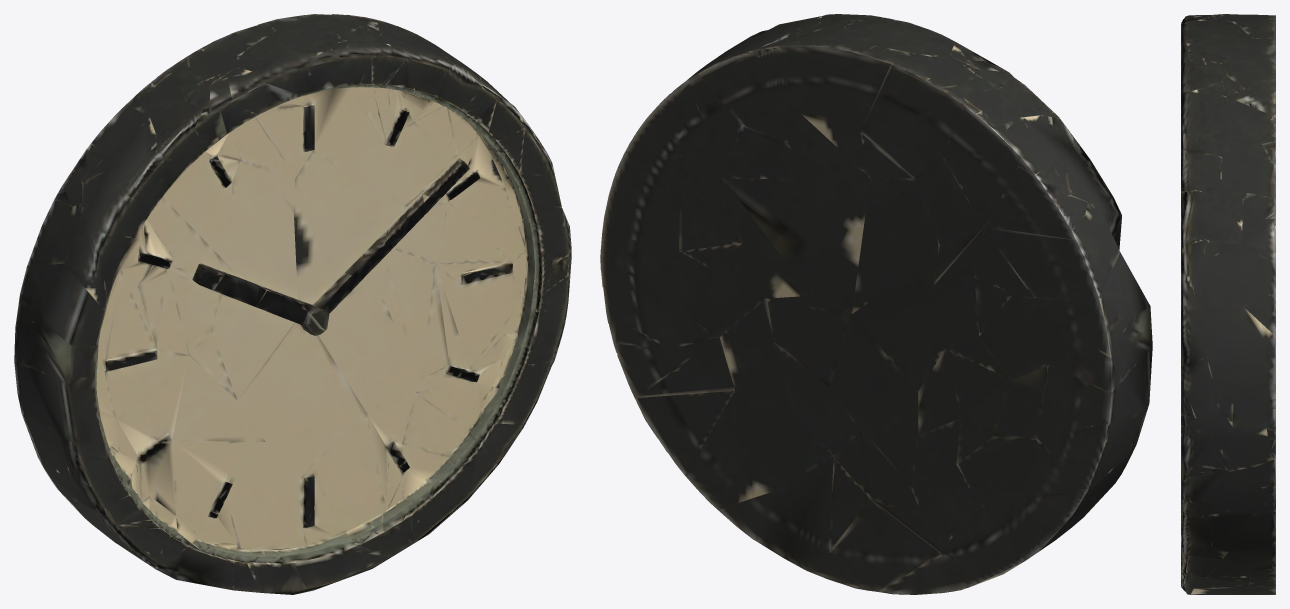
Rendered from wall_clock.a95429f8e1.glb.
3 renders of one model, left to right at view 1: azimuth 30°, elevation 25°; view 2: azimuth 150°, elevation 25°; view 3: azimuth 270°, elevation 25°, orthographic.
Parts seen in each view (by area): view 1: wall_clock; view 2: wall_clock; view 3: wall_clock.
Boxes of the visible parts, <box> form: wall_clock: <box>14,14,571,594</box>; wall_clock: <box>600,14,1152,594</box>; wall_clock: <box>1181,14,1275,594</box>.
Size of the model in its own units: 0.4195 by 0.4197 by 0.0684.
Materials: 1 (1 with a texture image).
